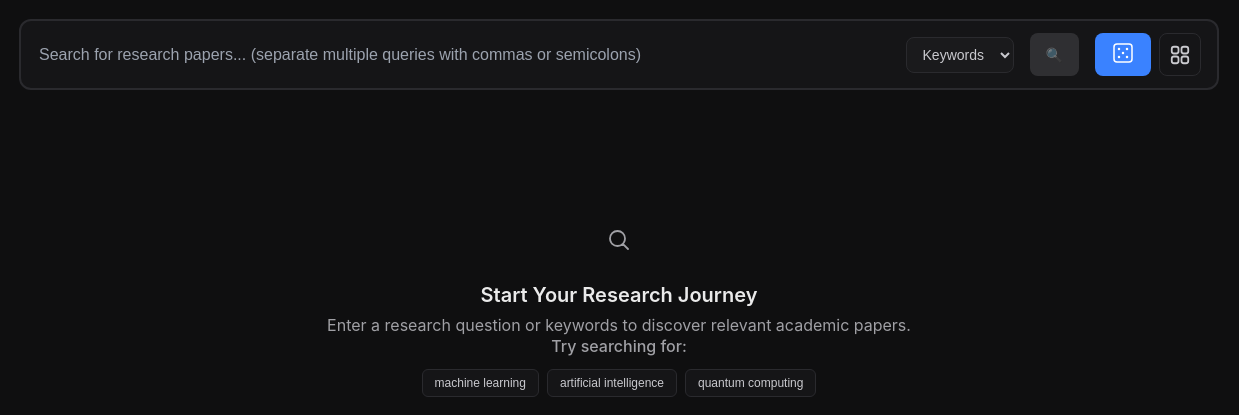
Test case: QueryPage › clicking example topic chips appends to the existing query instead of overwriting it
This screenshot has width=1239, height=415.
Note: User types some text in the search box
Step 1. Type "graph embeddings" into the field with placeholder "Search for research papers" → {"x": 467, "y": 54}, box [37,44,898,64]
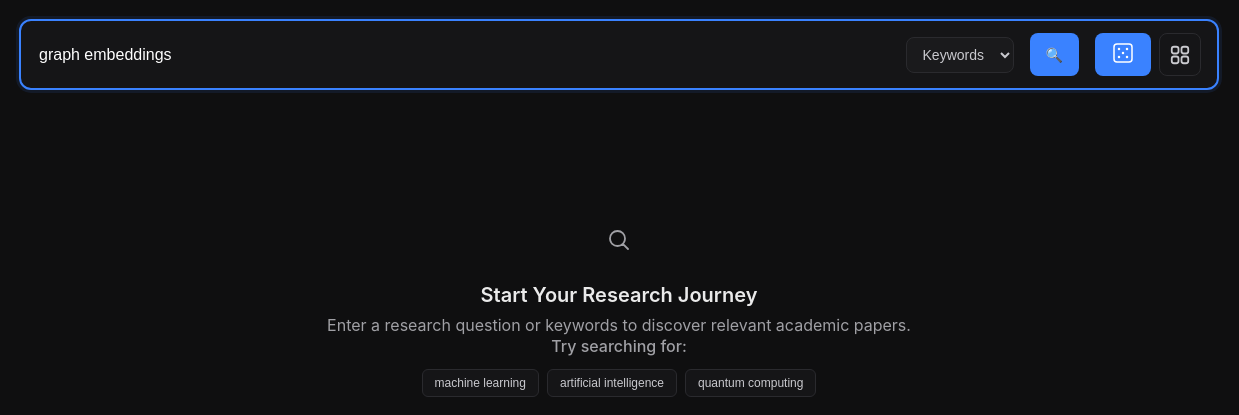
Note: User clicks the "machine learning" example chip
Step 2. Click the button "machine learning" → {"x": 480, "y": 383}, box [422,369,539,397]
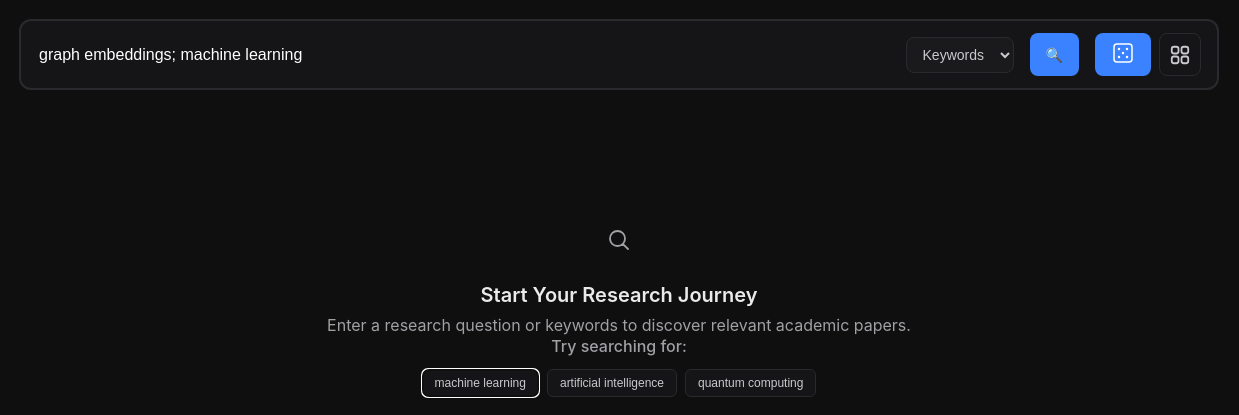
Now the field with placeholder "Search for research papers" holds "graph embeddings; machine learning", box [37,44,898,64]
Note: User then clicks the "quantum computing" chip
Step 3. Click the button "quantum computing" → {"x": 751, "y": 383}, box [685,369,816,397]
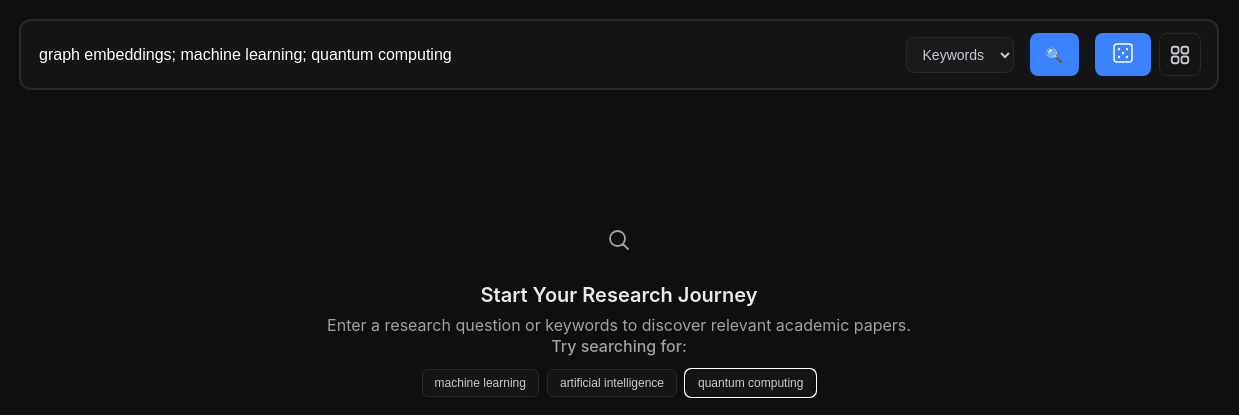
Now the field with placeholder "Search for research papers" holds "graph embeddings; machine learning; quantum computing", box [37,44,898,64]
